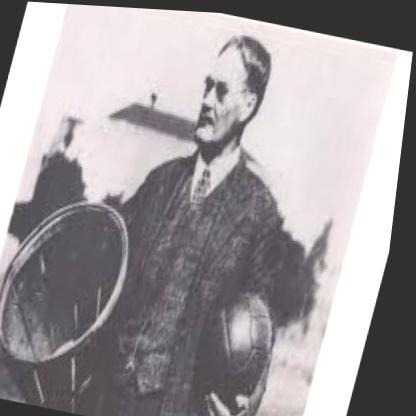basketball: (186, 282, 291, 416)
